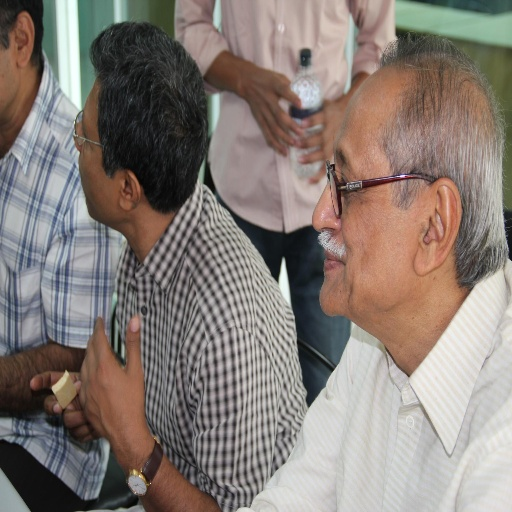hand: (74, 308, 152, 481), (28, 368, 98, 445), (247, 63, 302, 159), (292, 97, 348, 185)
